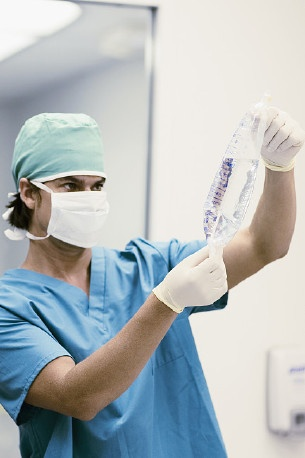Mask: (37, 173, 113, 249)
